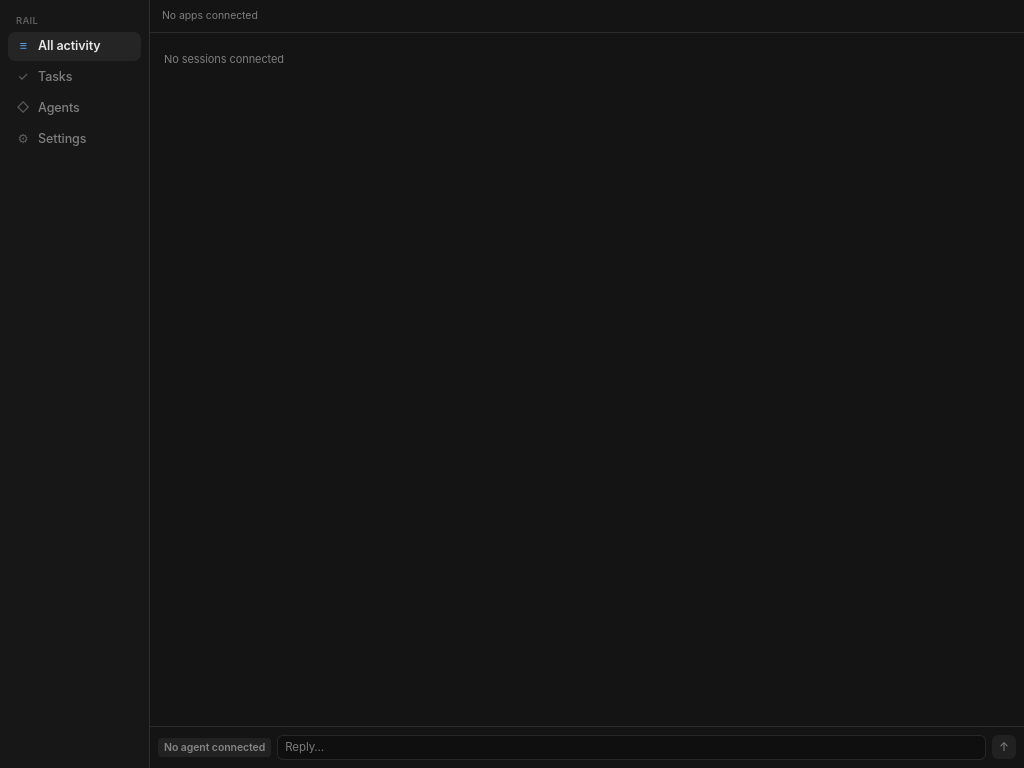
RailPanes › expands Settings into its children when it is the pane
The image size is (1024, 768).
Check: the text "Appearance" is not shown
Click the button "⚙ Settings" at (74,139), box [8,124,141,153]
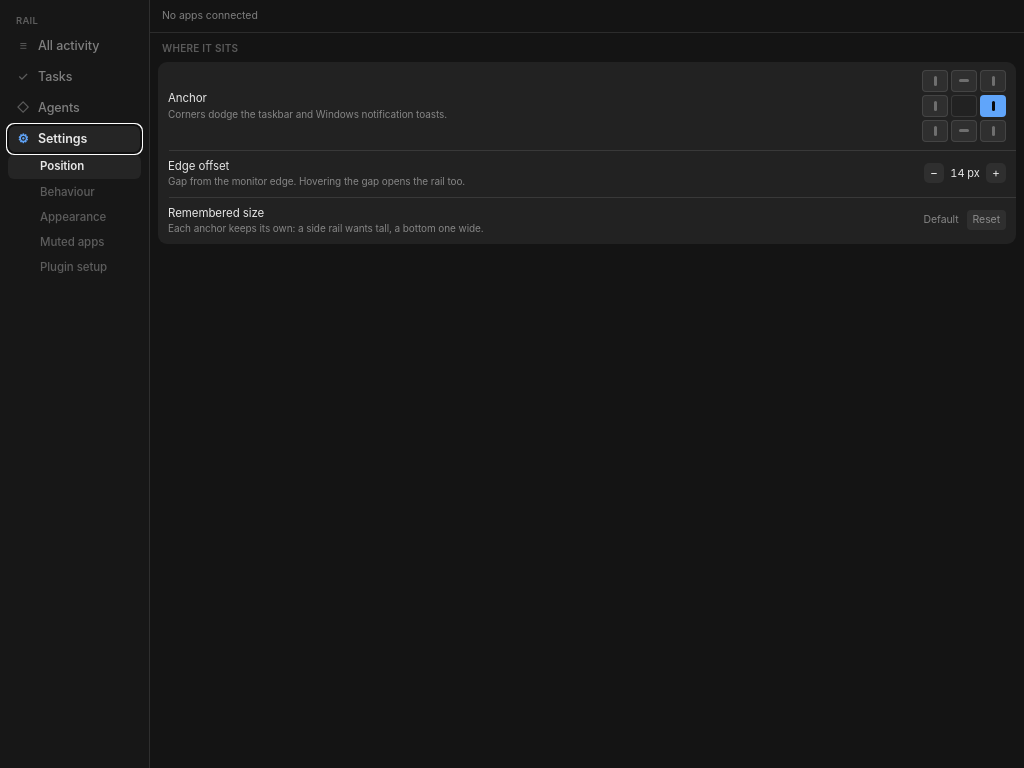
Check: the button "Position" is shown, box [8,155,141,179]
Check: the button "Behaviour" is shown, box [8,180,141,204]
Check: the button "Appearance" is shown, box [8,206,141,229]
